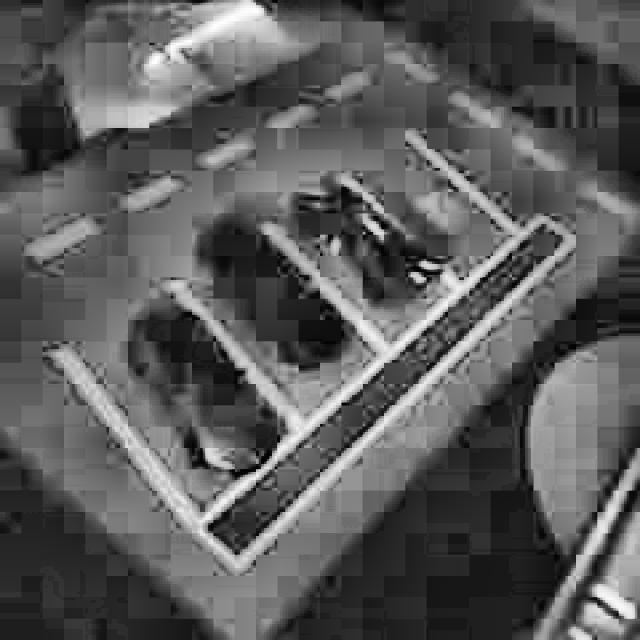car: (120, 289, 282, 486), (187, 203, 357, 384), (286, 169, 450, 321)
